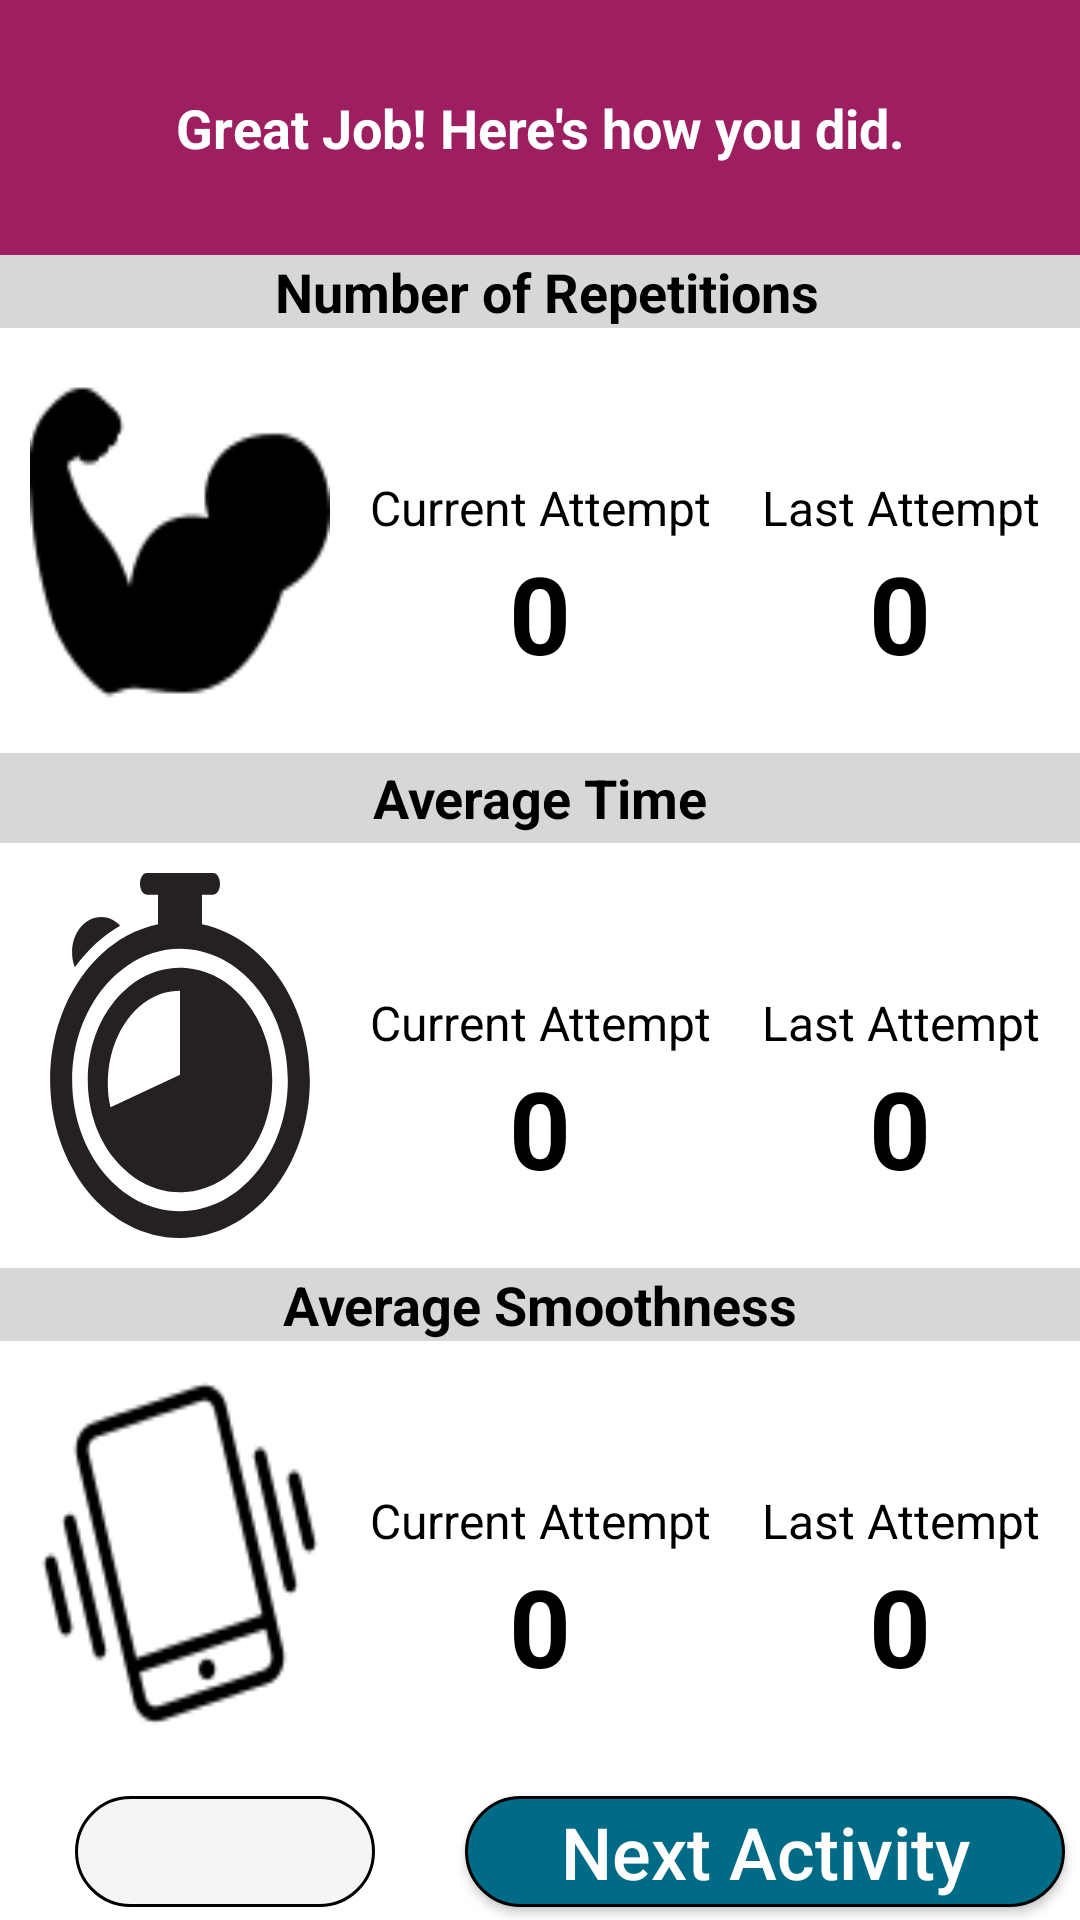

Locate icon controls on the screen. Image size 1080px x 1920px, boxes as detection(x1, y1, x2, y2).
muscle: detection(30, 387, 330, 697)
shake: detection(42, 1384, 318, 1723)
